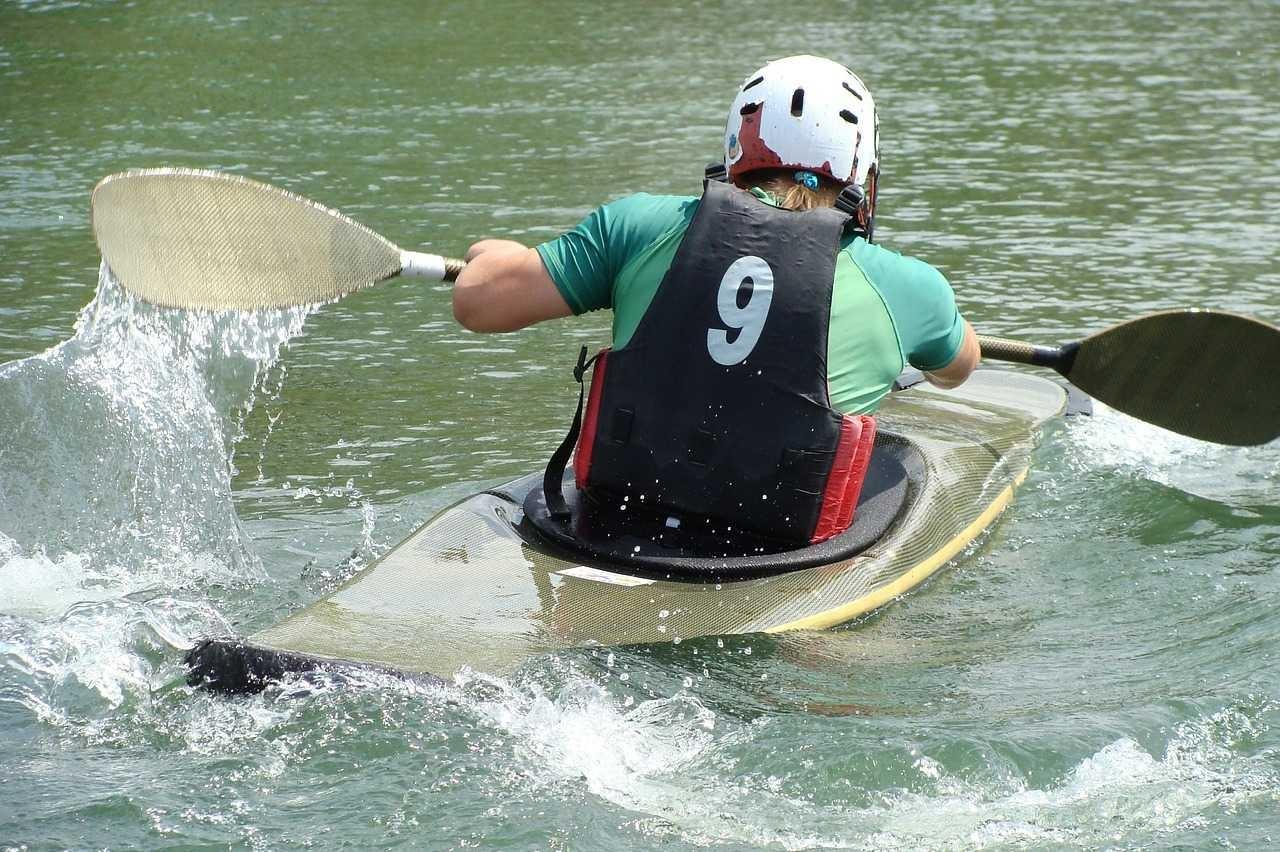kayak: (177, 354, 1069, 690)
